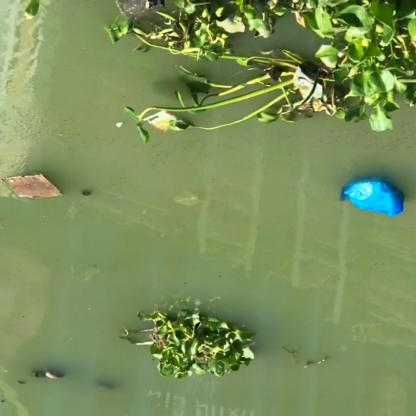Trash: (337, 170, 403, 222), (6, 171, 68, 201)
